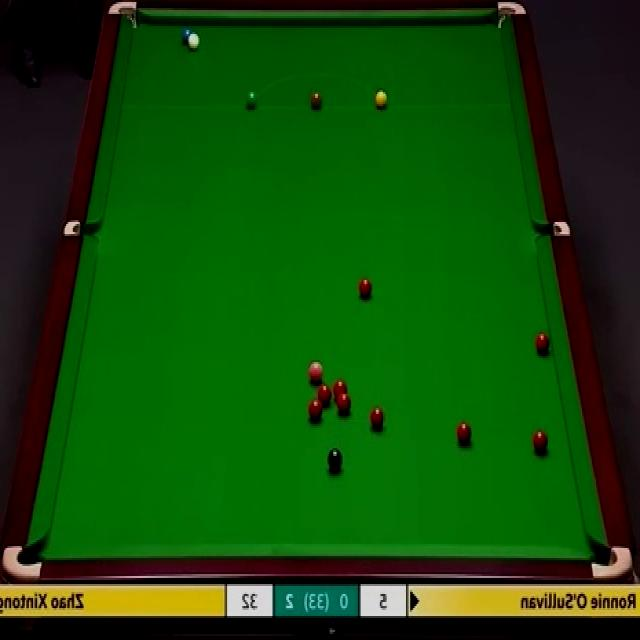black-ball: (326, 447, 344, 472)
blue-ball: (180, 27, 192, 47)
brown-ball: (309, 90, 322, 110)
green-ball: (245, 90, 259, 111)
pink-ball: (308, 359, 324, 384)
red-ball: (368, 405, 386, 431), (456, 421, 472, 446), (534, 330, 550, 354), (308, 396, 323, 421), (332, 378, 348, 401), (532, 429, 549, 450), (314, 380, 330, 402), (358, 278, 373, 300), (337, 393, 351, 413)
white-ball: (187, 32, 199, 54)
yellow-ball: (374, 89, 389, 110)
